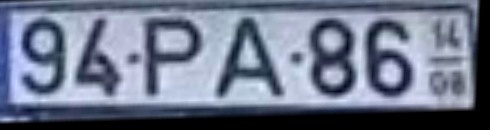4: (73, 15, 126, 103)
6: (361, 16, 417, 103)
8: (306, 15, 361, 102)
9: (18, 16, 70, 100)
A: (209, 15, 290, 103)
P: (140, 15, 208, 103)
